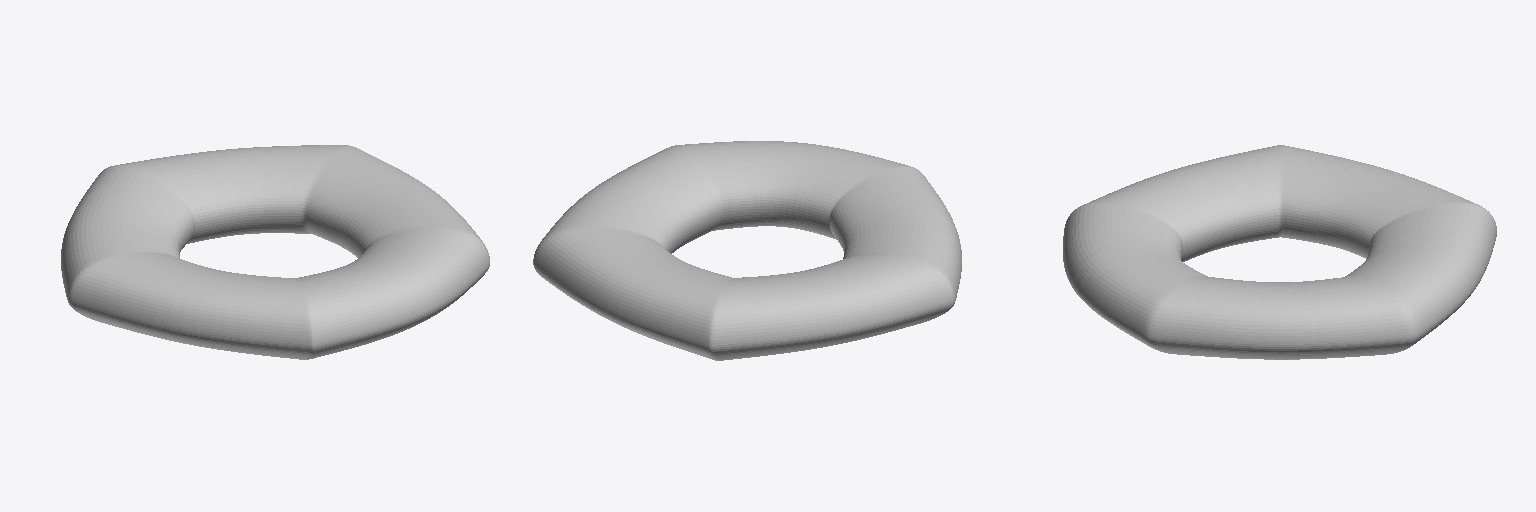
Rendered from Samoa.obj.
3 views of the same model, side by side, from view 1: azimuth 30°, elevation 25°; view 2: azimuth 150°, elevation 25°; view 3: azimuth 270°, elevation 25° (orthographic).
Visible parts, largest first — view 1: Samoas_Torus; view 2: Samoas_Torus; view 3: Samoas_Torus.
Part boxes in pixels (x1,y1,x2,y2): Samoas_Torus: (61,145,489,359); Samoas_Torus: (533,141,961,360); Samoas_Torus: (1063,145,1496,359).
Bounding box in the file's own units: 2.33 × 0.4106 × 2.35.